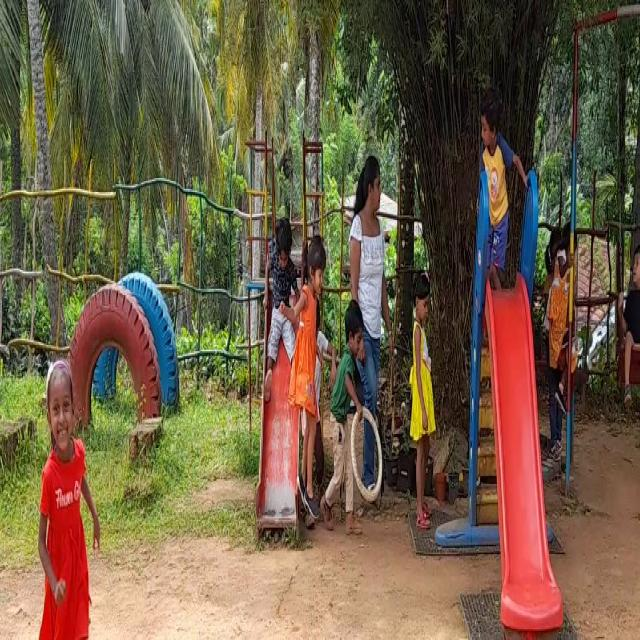adult: (351, 143, 388, 488)
child: (32, 360, 97, 640), (408, 255, 441, 542), (300, 222, 325, 502), (326, 293, 355, 508), (265, 215, 295, 397), (616, 223, 640, 387)
